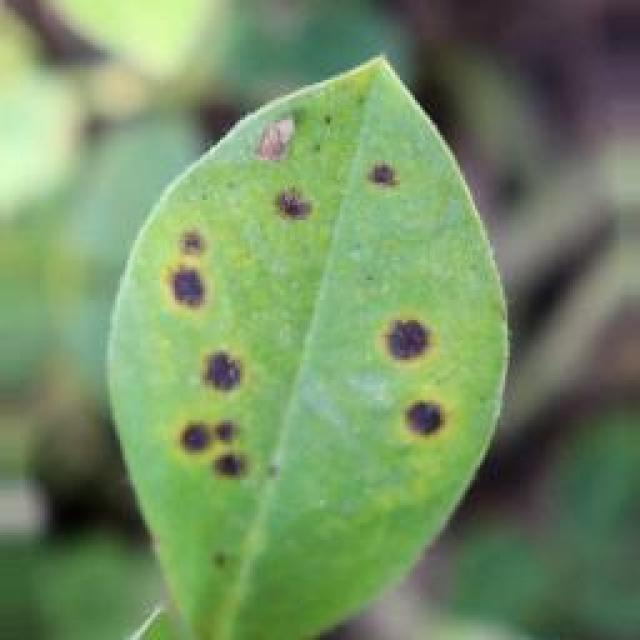Yellowish: (111, 173, 262, 489), (316, 273, 476, 473), (249, 120, 405, 228)
